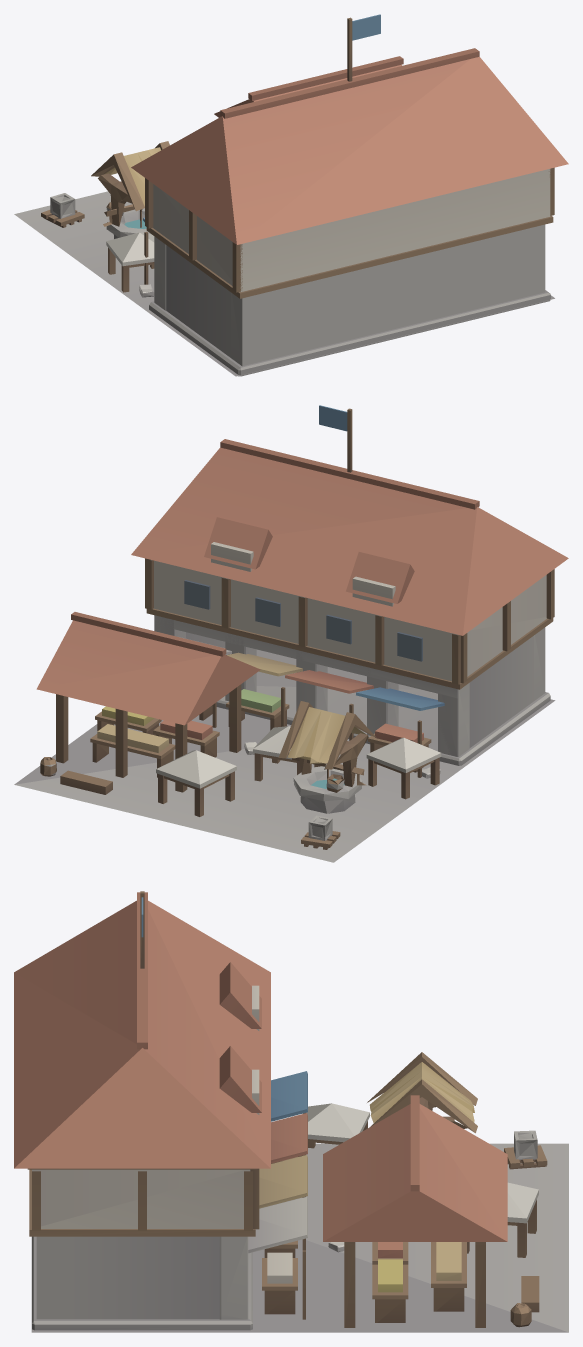
File: market_small.l3.glb
3 views of the same model, one above another, from view 1: azimuth 30°, elevation 25°; view 2: azimuth 150°, elevation 25°; view 3: azimuth 270°, elevation 25° (orthographic). The views are drawn at different scales.
Visible parts, largest first — view 1: market_small; view 2: market_small; view 3: market_small.
Part boxes in pixels (box(x1,y1,x2,y2)): market_small: box(14, 14, 568, 376); market_small: box(14, 405, 568, 862); market_small: box(14, 891, 568, 1332).
Size of the model in its own units: 5.15 by 4.25 by 6.15.
